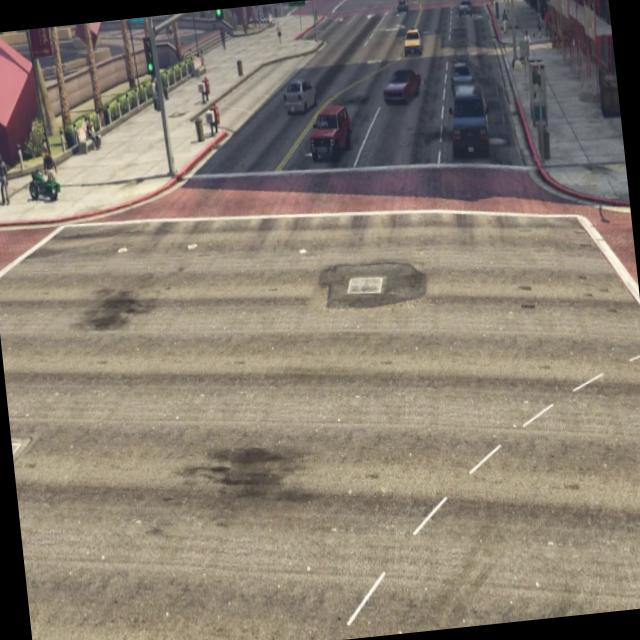Green-Signal: (132, 26, 163, 94), (279, 0, 315, 30), (205, 8, 235, 44)
